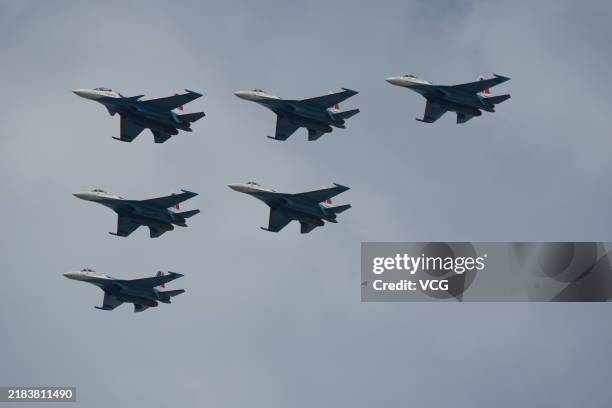Su35: (72, 83, 206, 147), (231, 84, 362, 144), (227, 180, 354, 238), (383, 71, 514, 127), (69, 187, 203, 240), (61, 265, 189, 315)
